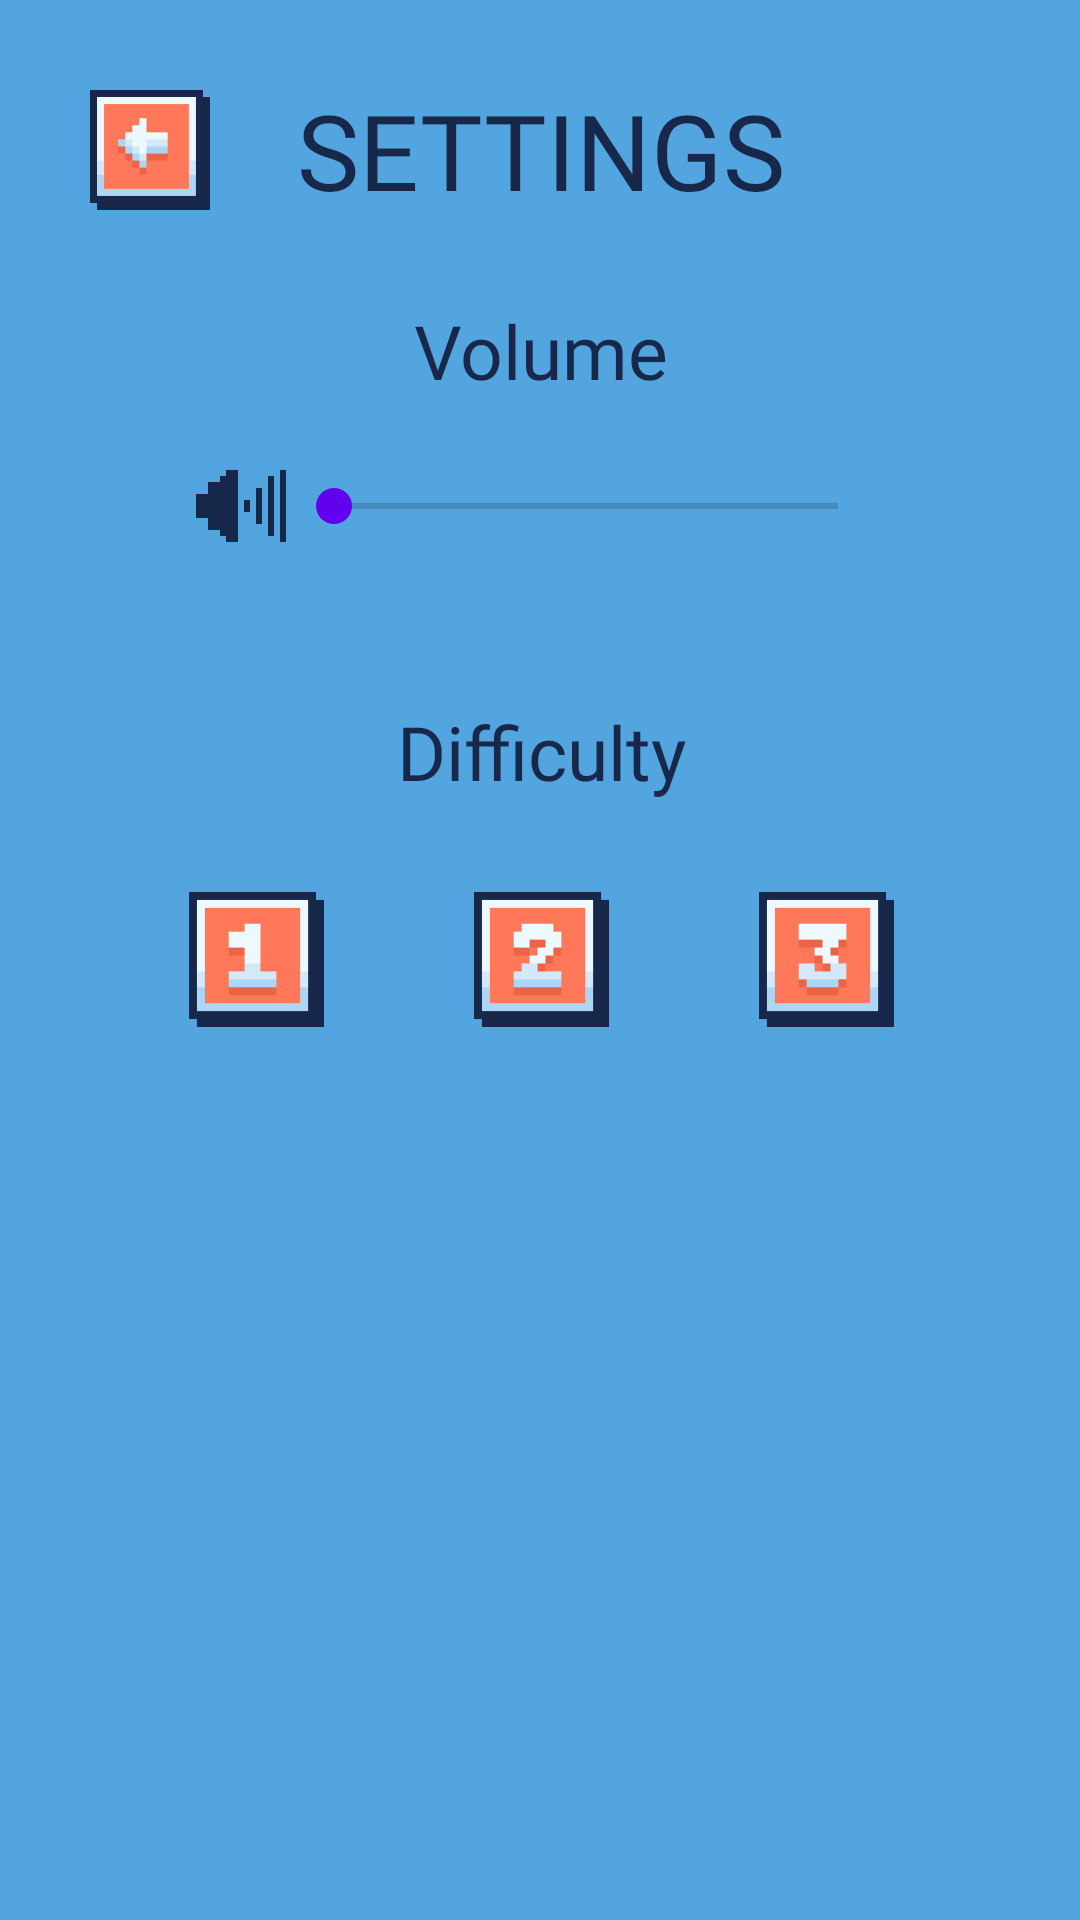

Named icons in this screenshot (1080*1920) and their bounding boxes, (x1, y1, x2, y2):
back: (90, 90, 210, 210)
vol up: (196, 470, 286, 542)
